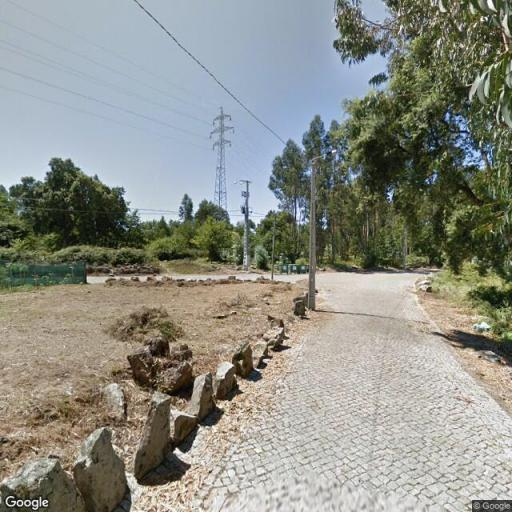mono_7: (239, 173, 254, 271)
ss_3: (210, 104, 234, 216)
